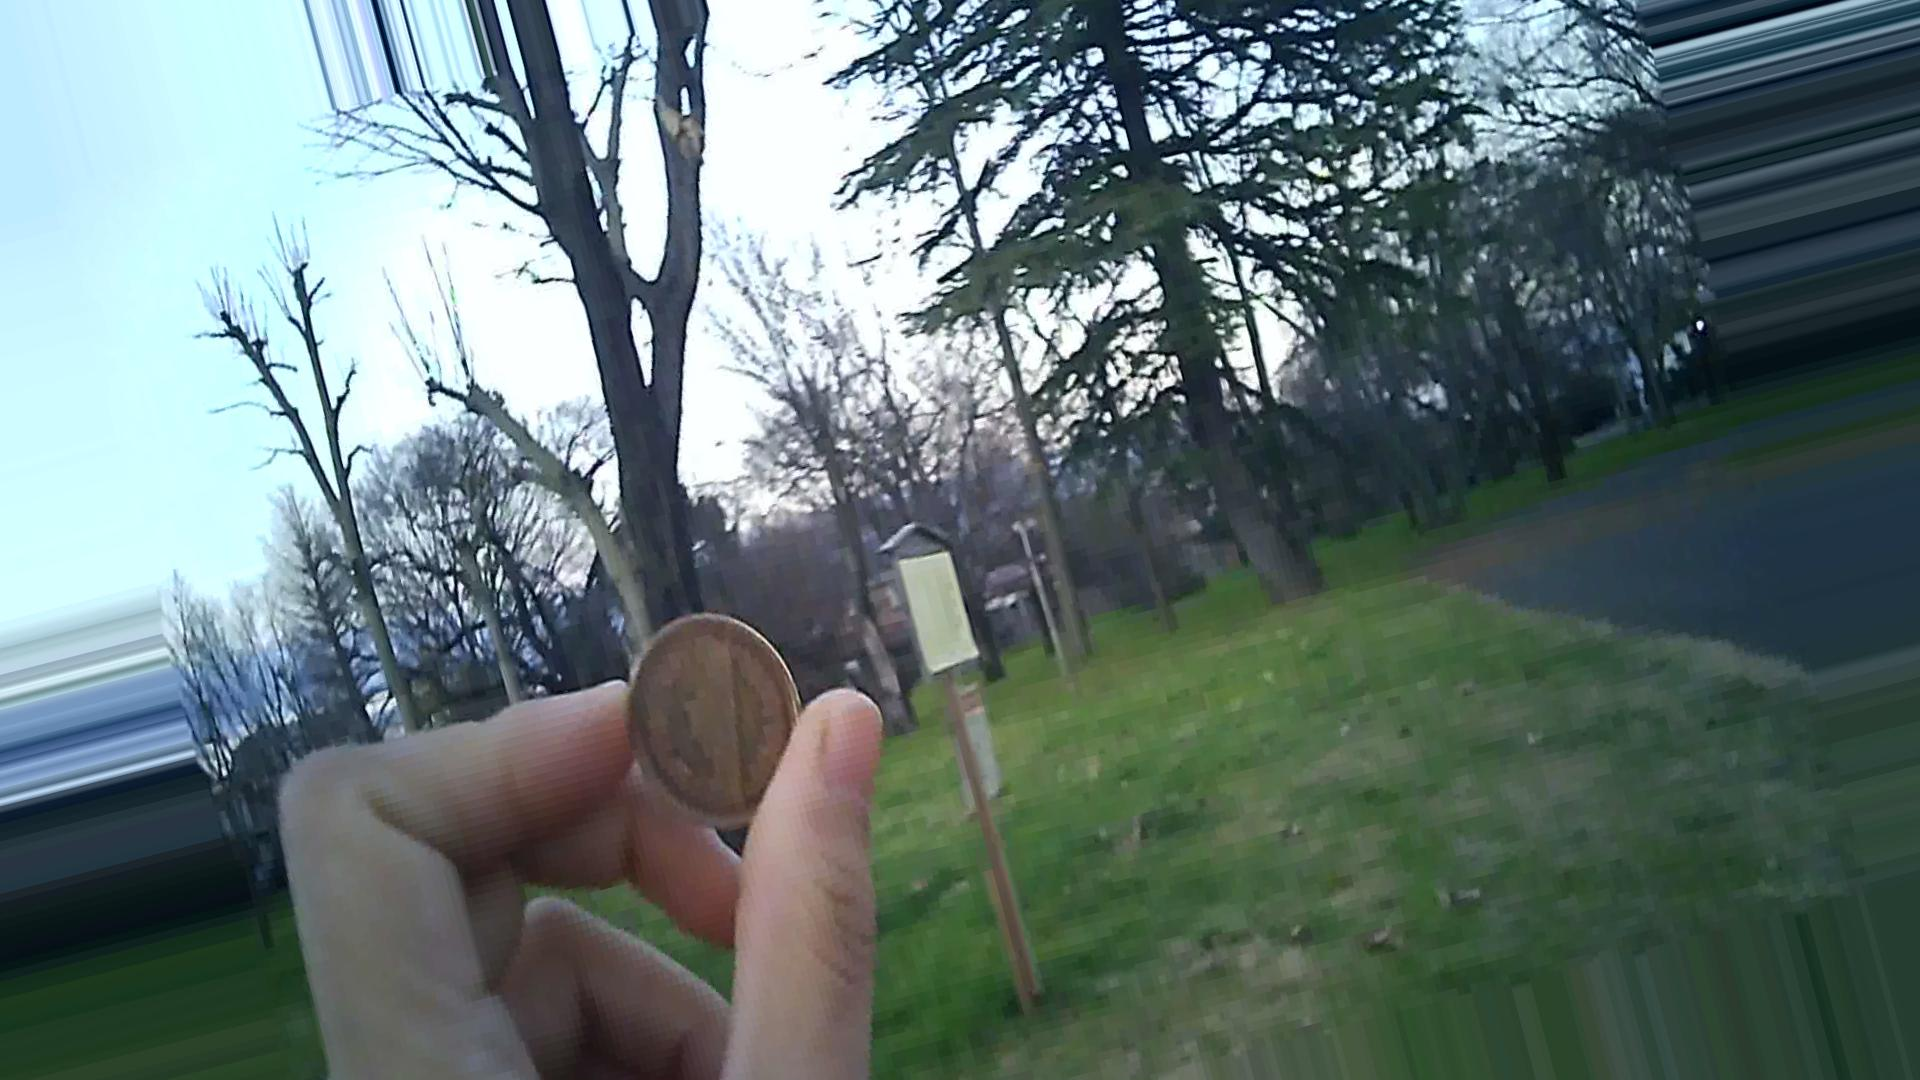10 Yen: (603, 607, 825, 812)
